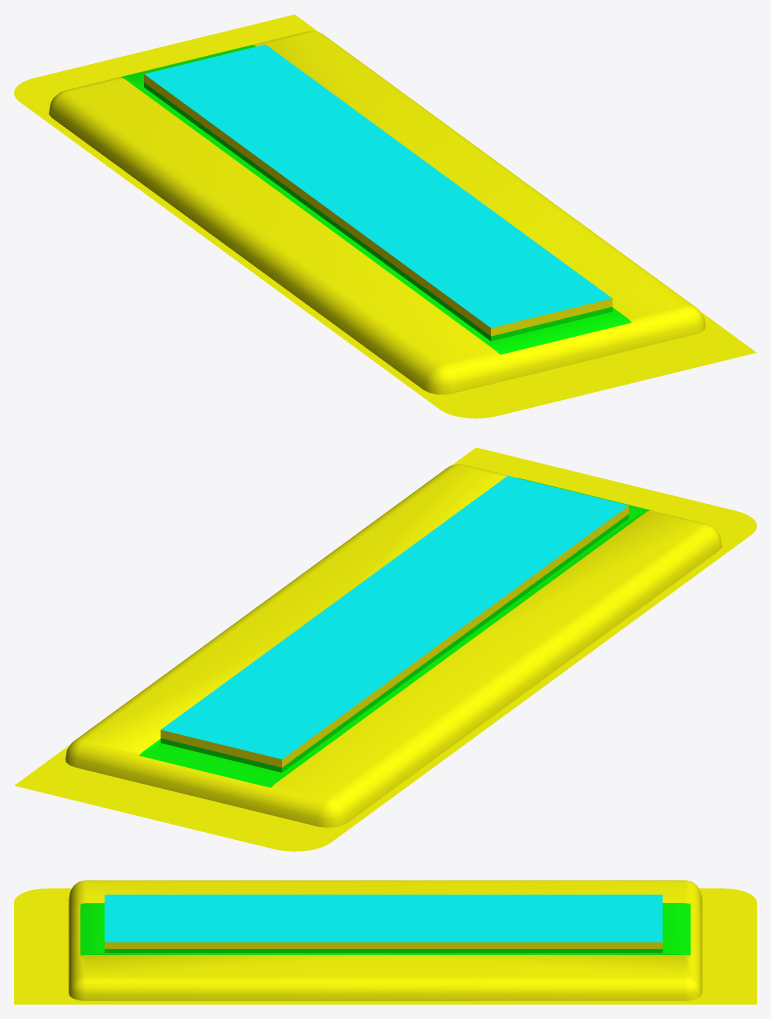
The model's file is SM_InteriorShell_DinerCart_Ceiling.FBX.
The picture shows the model from 3 angles, top to bottom: view 1: azimuth 30°, elevation 25°; view 2: azimuth 150°, elevation 25°; view 3: azimuth 270°, elevation 25°; orthographic projection. The views are drawn at different scales.
Parts seen in each view (by area): view 1: SM_InteriorShell_DinerCart_Ceiling; view 2: SM_InteriorShell_DinerCart_Ceiling; view 3: SM_InteriorShell_DinerCart_Ceiling.
Part boxes in pixels (bbox=[...]): SM_InteriorShell_DinerCart_Ceiling: bbox=[14, 14, 756, 418]; SM_InteriorShell_DinerCart_Ceiling: bbox=[14, 447, 756, 851]; SM_InteriorShell_DinerCart_Ceiling: bbox=[14, 880, 756, 1004].
Bounding box in the file's own units: 585 × 65.01 × 1582.
